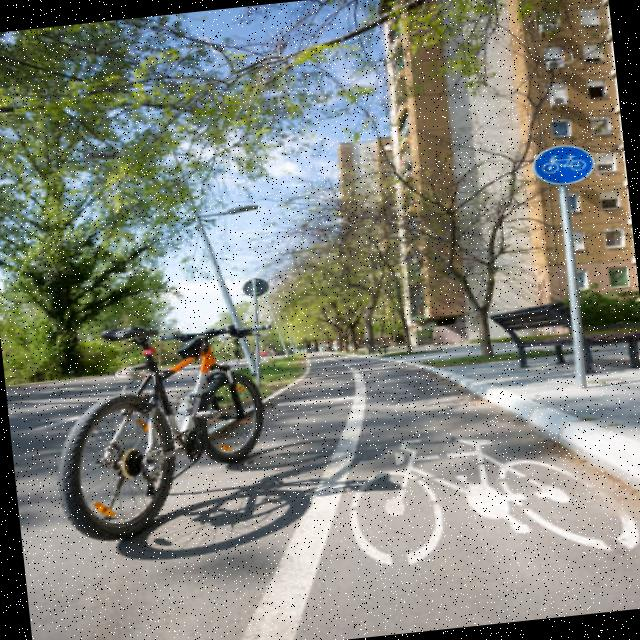bicycle: (497, 124, 622, 198)
